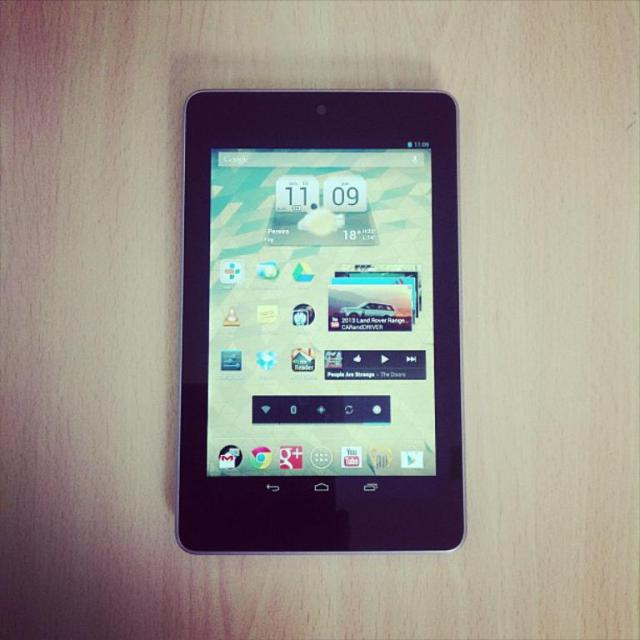Mobile-phone: (181, 88, 468, 557)
